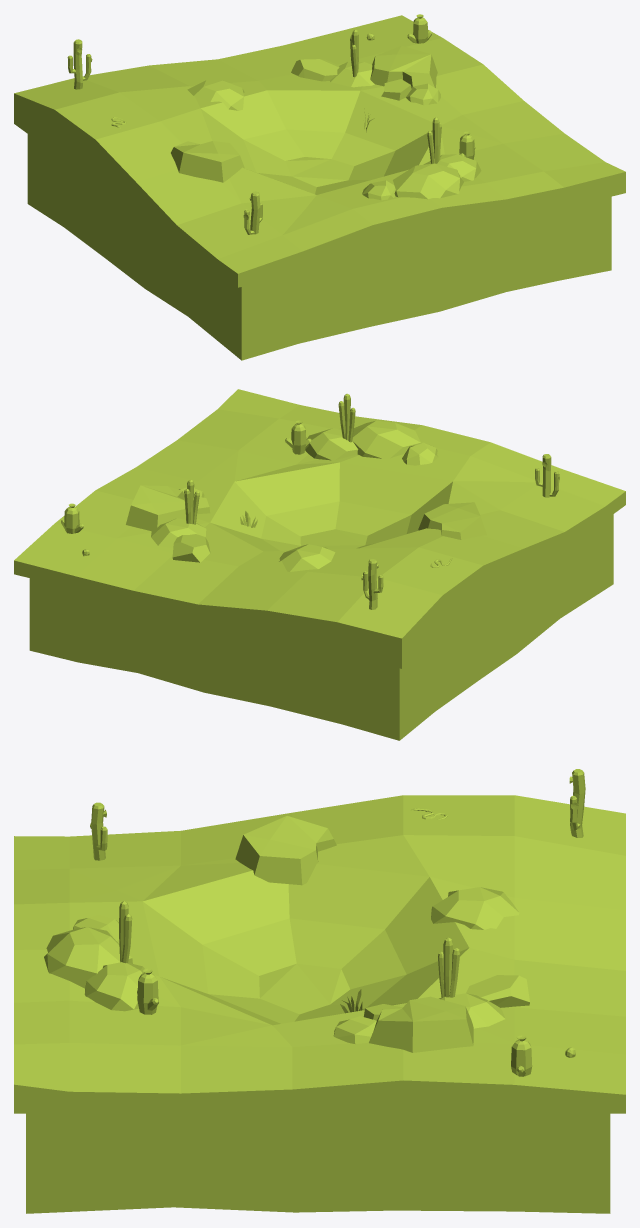
Rendered from polyperfect-oasis-base.fbx.
3 renders of one model, top to bottom at view 1: azimuth 30°, elevation 25°; view 2: azimuth 150°, elevation 25°; view 3: azimuth 270°, elevation 25°, orthographic. The views are drawn at different scales.
Visible parts, largest first — view 1: polyperfect-oasis-farm; view 2: polyperfect-oasis-farm; view 3: polyperfect-oasis-farm.
Boxes of the visible parts, box(x1,y1,x2,y2) form: polyperfect-oasis-farm: box(14, 14, 625, 360); polyperfect-oasis-farm: box(14, 389, 625, 740); polyperfect-oasis-farm: box(14, 769, 625, 1213).
Bounding box in the file's own units: 20 × 8.01 × 20.
